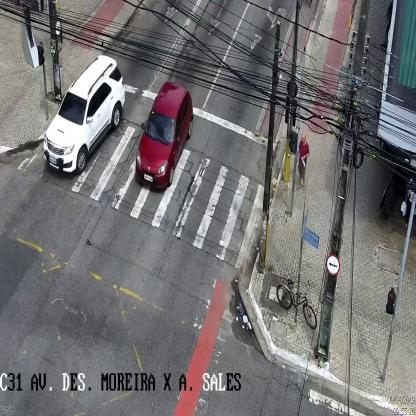bicycle: (276, 277, 317, 330)
car: (43, 56, 126, 176), (136, 82, 192, 192)
person: (295, 131, 310, 190)
